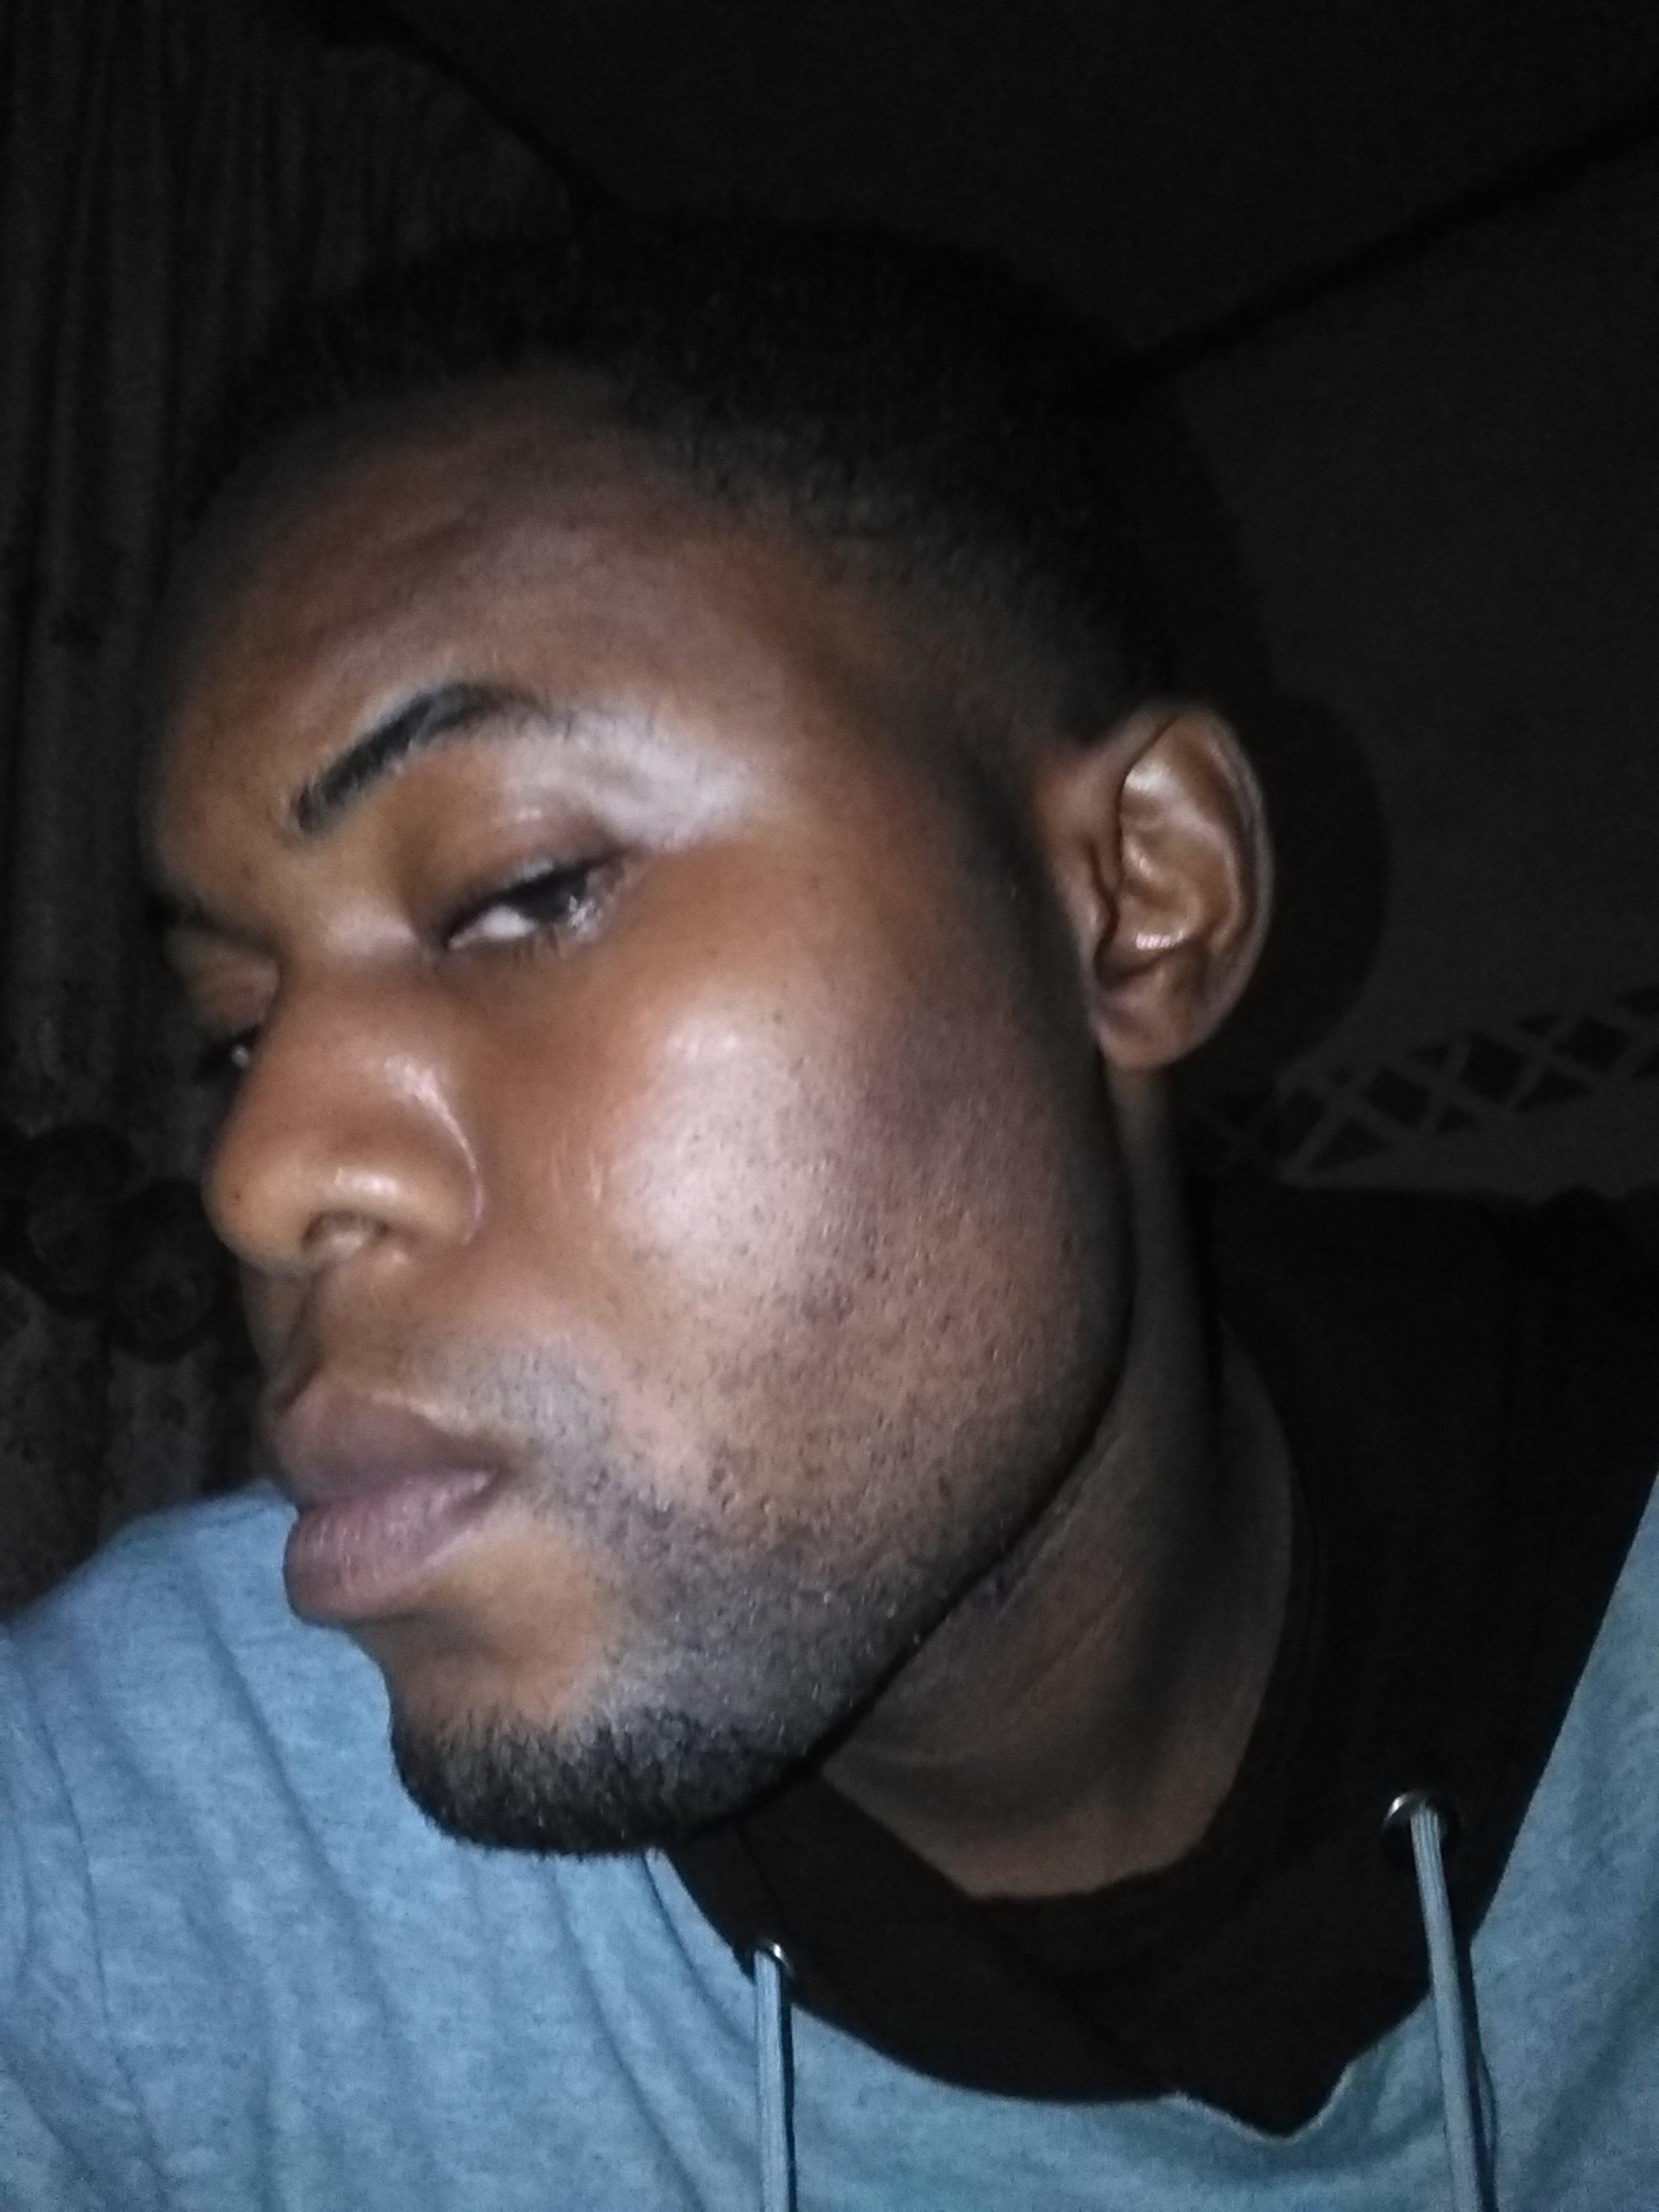Englarged-Pores: (809, 1172, 1082, 1472), (908, 939, 1105, 1162), (653, 1385, 807, 1538)
